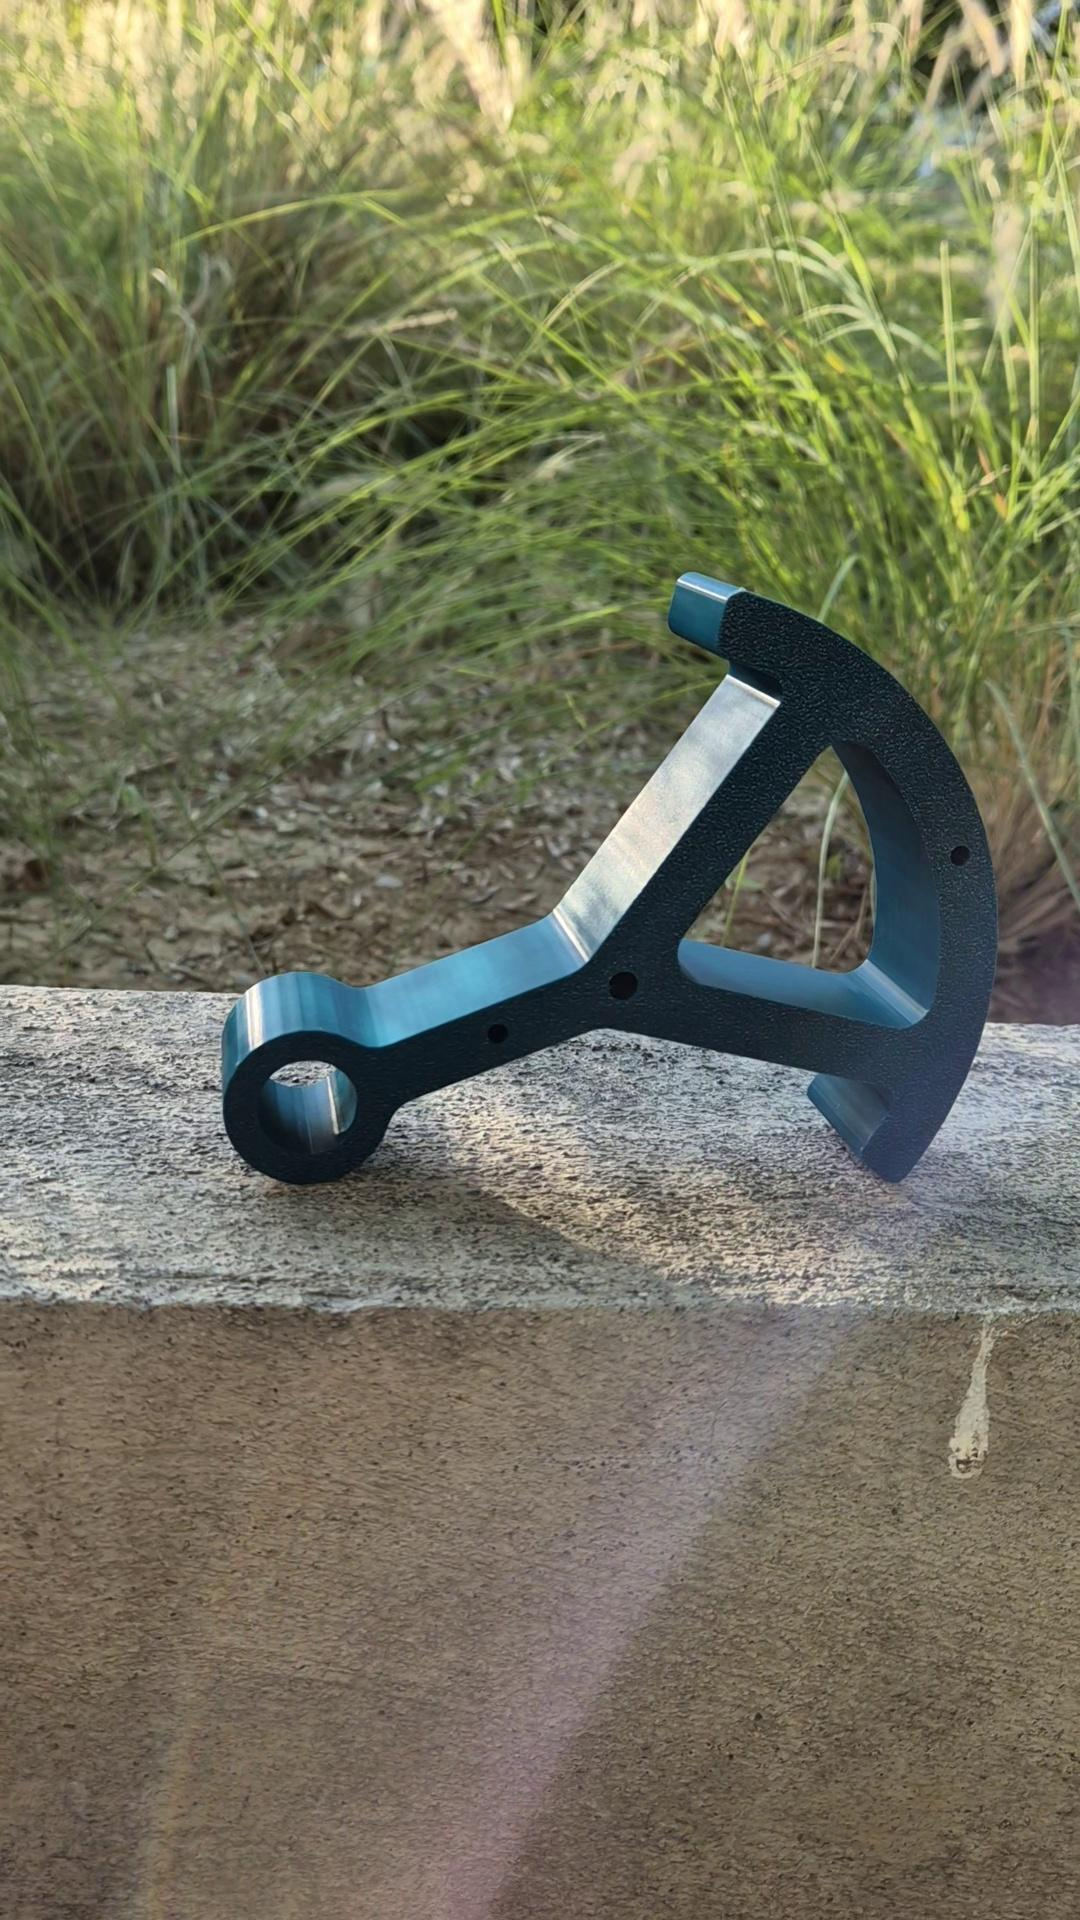Paddles: (218, 567, 1002, 1191)
